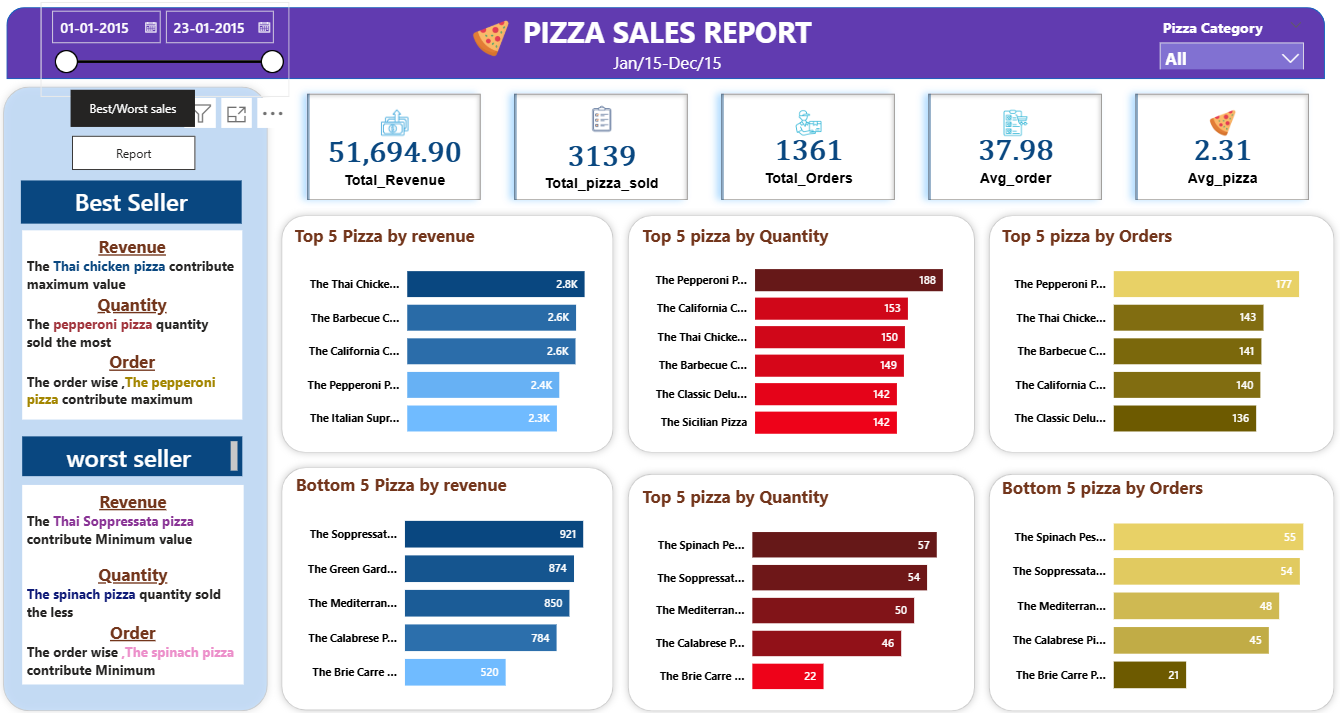

What the dashboard file says about the page in this screenshot:
{"tool":"powerbi","page":{"name":"Best/Worst sales","canvas":[1500,800],"ordinal":1},"visuals":[{"type":"cardVisual","title":"PIZZA SHOP ANALYSIS","fields":{"Data":["project sales.Total_Revenue","project sales.Total_pizza_sold","project sales.Total_Orders","project sales.Avg_order","project sales.Avg_pizza"]},"box":[333.3,90,1148.3,150],"z":0},{"type":"shape","box":[16.7,10,1465,80],"z":1000},{"type":"textbox","box":[580,10,340,70],"z":2000},{"type":"image","box":[518.3,18.3,73.3,51.7],"z":3000},{"type":"textbox","box":[668.3,53.3,165,36.7],"z":4000},{"type":"shape","box":[698.3,233.3,401.7,280],"z":5000},{"type":"shape","box":[4.3,90,310,710],"z":6000},{"type":"textbox","box":[31.7,203.3,245,48.3],"z":7000},{"type":"textbox","box":[32.9,258.6,244.3,210],"z":8000},{"type":"textbox","box":[32.9,487.1,244.3,44.3],"z":9000},{"type":"textbox","box":[32.9,541.4,245.7,221.4],"z":10000},{"type":"slicer","fields":{"Values":["project sales.pizza_category"]},"box":[1288.3,16.7,180,63.3],"z":11000},{"type":"slicer","fields":{"Values":["project sales.order_date"]},"box":[53.3,5,278.3,105],"z":12000},{"type":"shape","box":[1100,233.3,400,280],"z":13000},{"type":"shape","box":[313.3,233.3,385,280],"z":14000},{"type":"shape","box":[1100,520,400,280],"z":15000},{"type":"shape","box":[698.3,520,401.7,280],"z":16000},{"type":"shape","box":[313.8,513.8,385,286.2],"z":17000},{"type":"barChart","title":"Top 5 Pizza by revenue","fields":{"Category":["project sales.pizza_name"],"Y":["project sales.Total_Revenue"]},"box":[331.4,251.4,367.1,251.4],"z":18000},{"type":"barChart","title":"Bottom 5 Pizza by revenue","fields":{"Category":["project sales.pizza_name"],"Y":["project sales.Total_Revenue"]},"box":[332.9,528.6,354.3,257.1],"z":19000},{"type":"barChart","title":"Top 5 pizza by Quantity","fields":{"Category":["project sales.pizza_name"],"Y":["project sales.Total_pizza_sold"]},"box":[717.1,251.4,368.6,251.4],"z":20000},{"type":"barChart","title":"Top 5 pizza by Orders","fields":{"Category":["project sales.pizza_name"],"Y":["project sales.Total_Orders"]},"box":[1117.1,251.4,365.7,251.4],"z":21000},{"type":"barChart","title":"Bottom 5 pizza by Orders","fields":{"Category":["project sales.pizza_name"],"Y":["project sales.Total_Orders"]},"box":[1117.1,531.4,365.7,257.1],"z":22000},{"type":"barChart","title":"Top 5 pizza by Quantity","fields":{"Category":["project sales.pizza_name"],"Y":["project sales.Total_pizza_sold"]},"box":[717.1,541.4,357.1,247.1],"z":23000},{"type":"pageNavigator","box":[87.1,101.4,138.6,41.4],"z":24000},{"type":"pageNavigator","box":[88.6,152.9,137.1,38.6],"z":25000}]}

Visuals, with their boxes in screenshot pixels (x1, y1, x2, y2), scaled from the page's 1500x800 canvas onto the 1340x713 screenshot:
"PIZZA SHOP ANALYSIS" cardVisual: {"left": 298, "top": 80, "right": 1324, "bottom": 214}
shape: {"left": 15, "top": 9, "right": 1324, "bottom": 80}
textbox: {"left": 518, "top": 9, "right": 822, "bottom": 71}
image: {"left": 463, "top": 16, "right": 528, "bottom": 62}
textbox: {"left": 597, "top": 48, "right": 744, "bottom": 80}
shape: {"left": 624, "top": 208, "right": 983, "bottom": 457}
shape: {"left": 4, "top": 80, "right": 281, "bottom": 712}
textbox: {"left": 28, "top": 181, "right": 247, "bottom": 224}
textbox: {"left": 29, "top": 230, "right": 248, "bottom": 418}
textbox: {"left": 29, "top": 434, "right": 248, "bottom": 474}
textbox: {"left": 29, "top": 483, "right": 249, "bottom": 680}
slicer - project sales.pizza_category: {"left": 1151, "top": 15, "right": 1312, "bottom": 71}
slicer - project sales.order_date: {"left": 48, "top": 4, "right": 296, "bottom": 98}
shape: {"left": 983, "top": 208, "right": 1339, "bottom": 457}
shape: {"left": 280, "top": 208, "right": 624, "bottom": 457}
shape: {"left": 983, "top": 463, "right": 1339, "bottom": 712}
shape: {"left": 624, "top": 463, "right": 983, "bottom": 712}
shape: {"left": 280, "top": 458, "right": 624, "bottom": 712}
"Top 5 Pizza by revenue" barChart: {"left": 296, "top": 224, "right": 624, "bottom": 448}
"Bottom 5 Pizza by revenue" barChart: {"left": 297, "top": 471, "right": 614, "bottom": 700}
"Top 5 pizza by Quantity" barChart: {"left": 641, "top": 224, "right": 970, "bottom": 448}
"Top 5 pizza by Orders" barChart: {"left": 998, "top": 224, "right": 1325, "bottom": 448}
"Bottom 5 pizza by Orders" barChart: {"left": 998, "top": 474, "right": 1325, "bottom": 703}
"Top 5 pizza by Quantity" barChart: {"left": 641, "top": 483, "right": 960, "bottom": 703}
pageNavigator: {"left": 78, "top": 90, "right": 202, "bottom": 127}
pageNavigator: {"left": 79, "top": 136, "right": 202, "bottom": 171}
